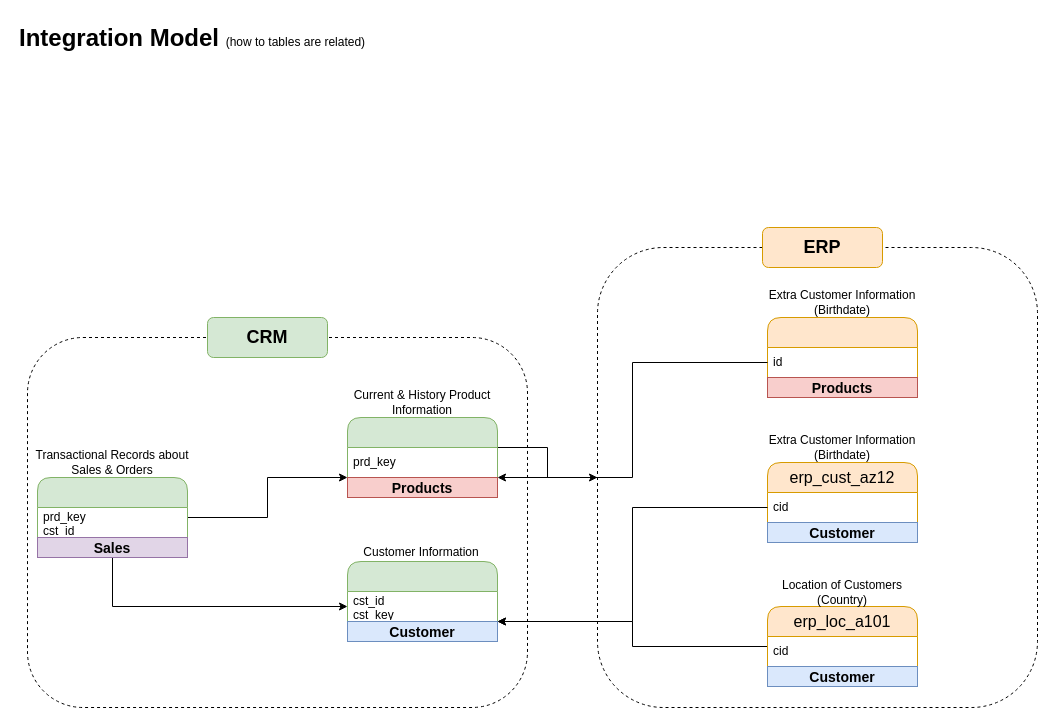
The diagram is 1055 pixels wide and 725 high, and some of its shapes have lost their labels. The box of each missing label's shape, as (x1, y1, x2, y2) in pixels:
crm_cust_info: (346, 560, 498, 642)
crm_prd_info: (346, 416, 498, 498)
crm_sales_details: (36, 476, 188, 558)
erp_px_cat_g1v2: (766, 316, 918, 398)
